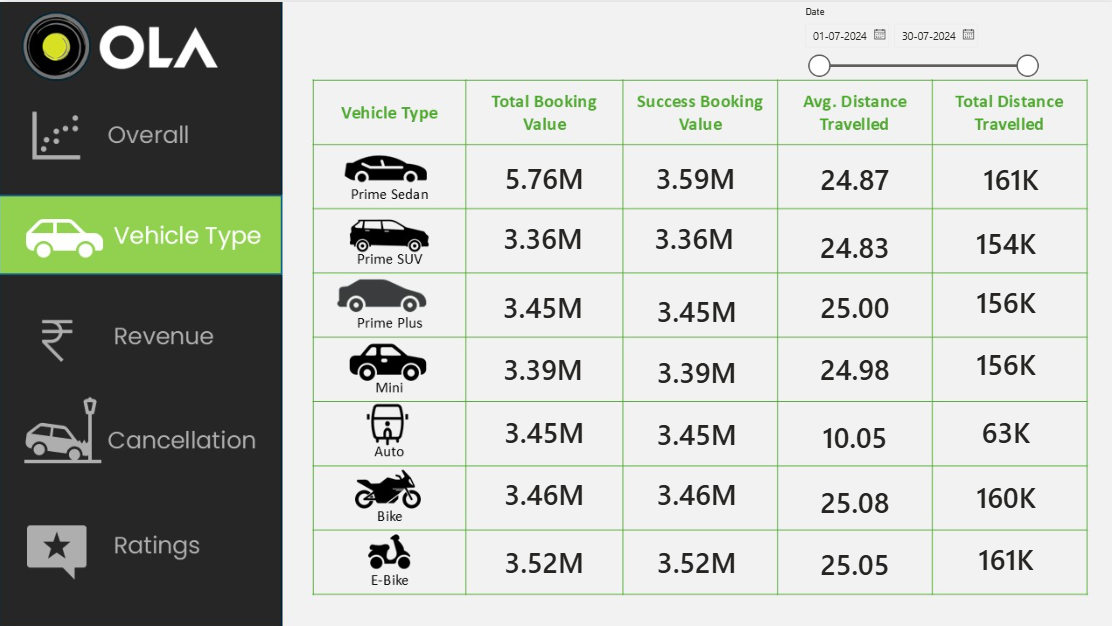

Layout of this report page (visuals, bound fields, positions):
{"tool":"powerbi","page":{"name":"Vehicle Type","canvas":[1280,720],"ordinal":1},"visuals":[{"type":"actionButton","box":[0,222,321.7,92.3],"z":0},{"type":"actionButton","box":[0,336.6,321.7,92.3],"z":1000},{"type":"actionButton","box":[0,458.4,321.7,92.3],"z":2000},{"type":"actionButton","box":[0,582.7,321.7,92.3],"z":3000},{"type":"actionButton","box":[0,106.2,321.7,92.3],"z":4000},{"type":"cardVisual","fields":{"Data":["Sum(Booking_csv.Booking_Value)"]},"box":[537.5,163.7,172.6,71.2],"z":5000},{"type":"cardVisual","fields":{"Data":["Sum(Booking_csv.Booking_Value)"]},"box":[535.7,233.2,172.6,71.2],"z":6000},{"type":"cardVisual","fields":{"Data":["Sum(Booking_csv.Booking_Value)"]},"box":[535.7,311.5,172.6,71.2],"z":7000},{"type":"cardVisual","fields":{"Data":["Sum(Booking_csv.Booking_Value)"]},"box":[535.7,382.7,172.6,71.2],"z":8000},{"type":"cardVisual","fields":{"Data":["Sum(Booking_csv.Booking_Value)"]},"box":[537.5,453.8,172.6,71.2],"z":9000},{"type":"cardVisual","fields":{"Data":["Sum(Booking_csv.Booking_Value)"]},"box":[537.5,525,172.6,71.2],"z":10000},{"type":"cardVisual","fields":{"Data":["Sum(Booking_csv.Booking_Value)"]},"box":[537.5,603.3,172.6,71.2],"z":11000},{"type":"cardVisual","fields":{"Data":["Sum(Booking_csv.Booking_Value)"]},"box":[710.1,163.7,172.6,71.2],"z":12000},{"type":"cardVisual","fields":{"Data":["Sum(Booking_csv.Booking_Value)"]},"box":[708.4,233.2,172.6,71.2],"z":13000},{"type":"cardVisual","fields":{"Data":["Sum(Booking_csv.Booking_Value)"]},"box":[711.9,315,172.6,71.2],"z":14000},{"type":"cardVisual","fields":{"Data":["Sum(Booking_csv.Booking_Value)"]},"box":[711.9,386.2,172.6,71.2],"z":15000},{"type":"cardVisual","fields":{"Data":["Sum(Booking_csv.Booking_Value)"]},"box":[711.9,457.4,172.6,71.2],"z":16000},{"type":"cardVisual","fields":{"Data":["Sum(Booking_csv.Booking_Value)"]},"box":[711.9,525,172.6,71.2],"z":17000},{"type":"cardVisual","fields":{"Data":["Sum(Booking_csv.Booking_Value)"]},"box":[711.9,603.3,172.6,71.2],"z":18000},{"type":"cardVisual","fields":{"Data":["Avg(Booking_csv.Ride_Distance)"]},"box":[900.6,243.8,156.6,67.6],"z":19000},{"type":"cardVisual","fields":{"Data":["Avg(Booking_csv.Ride_Distance)"]},"box":[900.6,167.3,156.6,67.6],"z":20000},{"type":"cardVisual","fields":{"Data":["Avg(Booking_csv.Ride_Distance)"]},"box":[900.6,313.2,156.6,69.4],"z":21000},{"type":"cardVisual","fields":{"Data":["Avg(Booking_csv.Ride_Distance)"]},"box":[900.6,384.4,156.6,67.6],"z":22000},{"type":"cardVisual","fields":{"Data":["Avg(Booking_csv.Ride_Distance)"]},"box":[900.6,461,156.6,67.6],"z":23000},{"type":"cardVisual","fields":{"Data":["Avg(Booking_csv.Ride_Distance)"]},"box":[900.6,535.7,156.6,67.6],"z":24000},{"type":"cardVisual","fields":{"Data":["Avg(Booking_csv.Ride_Distance)"]},"box":[900.6,606.9,156.6,67.6],"z":25000},{"type":"cardVisual","fields":{"Data":["Sum(Booking_csv.Ride_Distance)"]},"box":[1078.6,167.3,156.6,67.6],"z":26000},{"type":"cardVisual","fields":{"Data":["Sum(Booking_csv.Ride_Distance)"]},"box":[1072.9,307.6,156.6,69.4],"z":27000},{"type":"cardVisual","fields":{"Data":["Sum(Booking_csv.Ride_Distance)"]},"box":[1072.9,378.8,156.6,67.6],"z":28000},{"type":"cardVisual","fields":{"Data":["Sum(Booking_csv.Ride_Distance)"]},"box":[1072.9,455.3,156.6,67.6],"z":29000},{"type":"cardVisual","fields":{"Data":["Sum(Booking_csv.Ride_Distance)"]},"box":[1072.9,530.1,156.6,67.6],"z":30000},{"type":"cardVisual","fields":{"Data":["Sum(Booking_csv.Ride_Distance)"]},"box":[1072.9,601.2,156.6,67.6],"z":31000},{"type":"cardVisual","fields":{"Data":["Sum(Booking_csv.Ride_Distance)"]},"box":[1073.2,240.3,156.6,67.6],"z":32000},{"type":"slicer","title":"Booking status breakdown","fields":{"Values":["Booking_csv.Date"]},"box":[908.6,0,295.7,87.1],"z":33000}]}

Visuals, with their boxes in screenshot pixels (x1, y1, x2, y2), scaled from the page's 1280x720 canvas onto the 1112x626 screenshot:
actionButton: [x1=0, y1=193, x2=279, y2=273]
actionButton: [x1=0, y1=293, x2=279, y2=373]
actionButton: [x1=0, y1=399, x2=279, y2=479]
actionButton: [x1=0, y1=507, x2=279, y2=587]
actionButton: [x1=0, y1=92, x2=279, y2=173]
cardVisual - Sum(Booking_csv.Booking_Value): [x1=467, y1=142, x2=617, y2=204]
cardVisual - Sum(Booking_csv.Booking_Value): [x1=465, y1=203, x2=615, y2=265]
cardVisual - Sum(Booking_csv.Booking_Value): [x1=465, y1=271, x2=615, y2=333]
cardVisual - Sum(Booking_csv.Booking_Value): [x1=465, y1=333, x2=615, y2=395]
cardVisual - Sum(Booking_csv.Booking_Value): [x1=467, y1=395, x2=617, y2=456]
cardVisual - Sum(Booking_csv.Booking_Value): [x1=467, y1=456, x2=617, y2=518]
cardVisual - Sum(Booking_csv.Booking_Value): [x1=467, y1=525, x2=617, y2=586]
cardVisual - Sum(Booking_csv.Booking_Value): [x1=617, y1=142, x2=767, y2=204]
cardVisual - Sum(Booking_csv.Booking_Value): [x1=615, y1=203, x2=765, y2=265]
cardVisual - Sum(Booking_csv.Booking_Value): [x1=618, y1=274, x2=768, y2=336]
cardVisual - Sum(Booking_csv.Booking_Value): [x1=618, y1=336, x2=768, y2=398]
cardVisual - Sum(Booking_csv.Booking_Value): [x1=618, y1=398, x2=768, y2=460]
cardVisual - Sum(Booking_csv.Booking_Value): [x1=618, y1=456, x2=768, y2=518]
cardVisual - Sum(Booking_csv.Booking_Value): [x1=618, y1=525, x2=768, y2=586]
cardVisual - Avg(Booking_csv.Ride_Distance): [x1=782, y1=212, x2=918, y2=271]
cardVisual - Avg(Booking_csv.Ride_Distance): [x1=782, y1=145, x2=918, y2=204]
cardVisual - Avg(Booking_csv.Ride_Distance): [x1=782, y1=272, x2=918, y2=333]
cardVisual - Avg(Booking_csv.Ride_Distance): [x1=782, y1=334, x2=918, y2=393]
cardVisual - Avg(Booking_csv.Ride_Distance): [x1=782, y1=401, x2=918, y2=460]
cardVisual - Avg(Booking_csv.Ride_Distance): [x1=782, y1=466, x2=918, y2=525]
cardVisual - Avg(Booking_csv.Ride_Distance): [x1=782, y1=528, x2=918, y2=586]
cardVisual - Sum(Booking_csv.Ride_Distance): [x1=937, y1=145, x2=1073, y2=204]
cardVisual - Sum(Booking_csv.Ride_Distance): [x1=932, y1=267, x2=1068, y2=328]
cardVisual - Sum(Booking_csv.Ride_Distance): [x1=932, y1=329, x2=1068, y2=388]
cardVisual - Sum(Booking_csv.Ride_Distance): [x1=932, y1=396, x2=1068, y2=455]
cardVisual - Sum(Booking_csv.Ride_Distance): [x1=932, y1=461, x2=1068, y2=520]
cardVisual - Sum(Booking_csv.Ride_Distance): [x1=932, y1=523, x2=1068, y2=581]
cardVisual - Sum(Booking_csv.Ride_Distance): [x1=932, y1=209, x2=1068, y2=268]
"Booking status breakdown" slicer: [x1=789, y1=0, x2=1046, y2=76]
